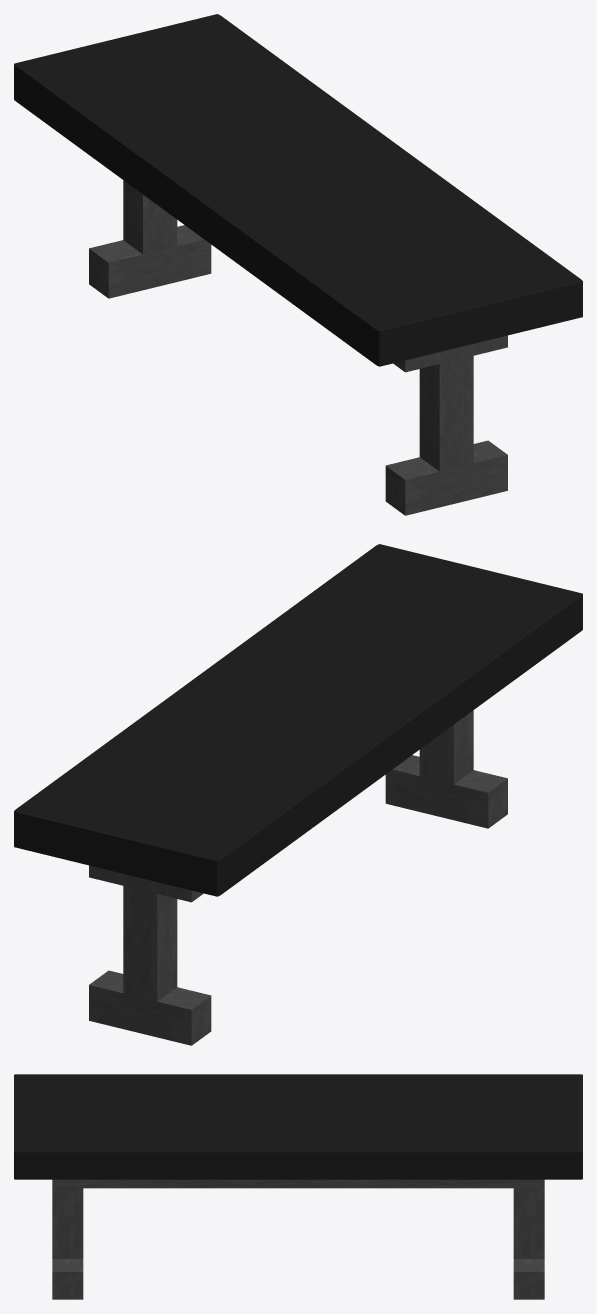
File: Bench.fbx
3 renders of one model, top to bottom at view 1: azimuth 30°, elevation 25°; view 2: azimuth 150°, elevation 25°; view 3: azimuth 270°, elevation 25°, orthographic. The views are drawn at different scales.
Parts seen in each view (by area): view 1: Cube.005, Cube.002, Cube.003, Cube, Cube.001; view 2: Cube.005, Cube.001, Cube, Cube.003, Cube.002; view 3: Cube.005, Cube.007, Cube.001, Cube.002, Cube, Cube.003.
Part boxes in pixels (x1,y1,x2,y2): Cube.005: (14,14,582,366); Cube.002: (419,356,473,471); Cube.003: (385,440,507,515); Cube: (89,225,211,298); Cube.001: (123,180,177,254); Cube.005: (14,544,582,896); Cube.001: (123,886,177,1001); Cube: (89,970,211,1045); Cube.003: (385,755,507,828); Cube.002: (419,710,473,784); Cube.005: (14,1074,582,1179); Cube.007: (52,1179,544,1188); Cube.001: (513,1188,544,1258); Cube.002: (52,1188,83,1258); Cube: (513,1259,544,1299); Cube.003: (52,1259,83,1299).
Bounding box in the file's own units: 1200 × 1200 × 3700.
2 materials, 1 textured.
